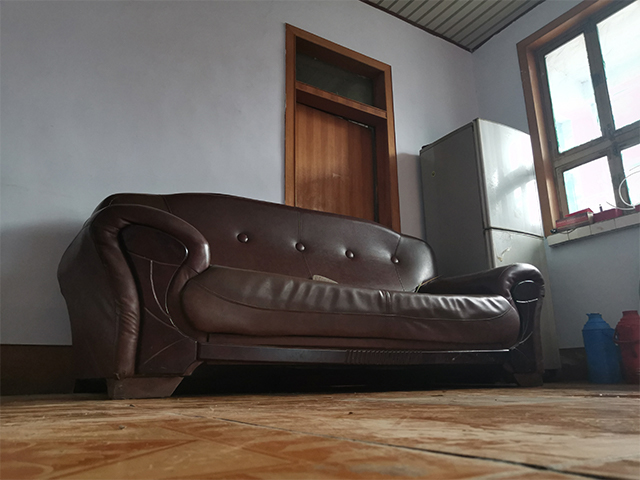sofa: (55, 189, 549, 402)
